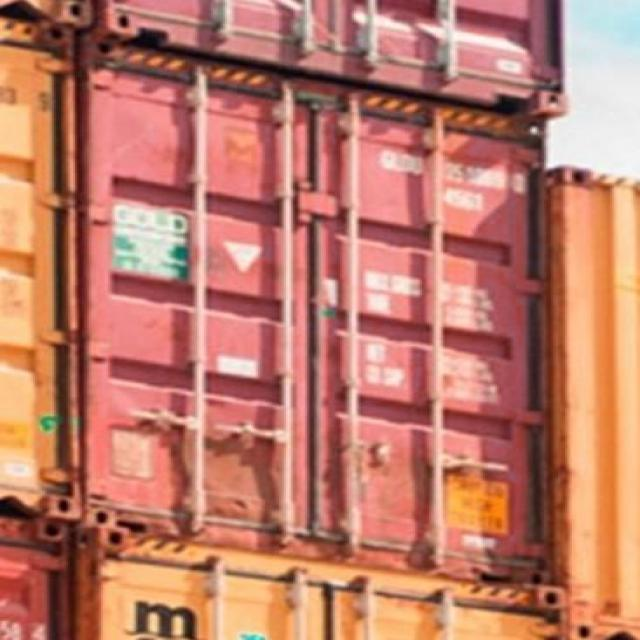ISO: (434, 189, 496, 219)
container_number: (377, 162, 532, 194)
